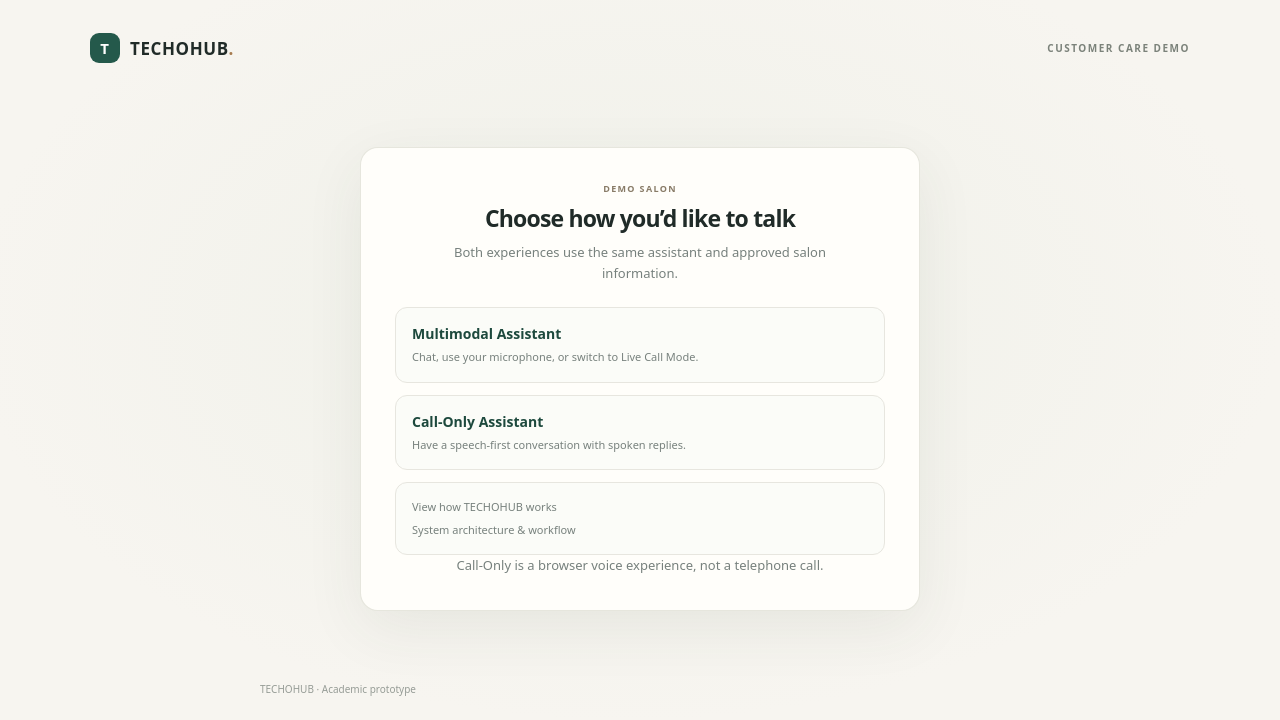
Scenario: browser text chat › switches message to live without replacing the session or transcript
This screenshot has width=1280, height=720.
Click the button "Multimodal Assistant" at (487, 334), box 395,307 -> 885,383
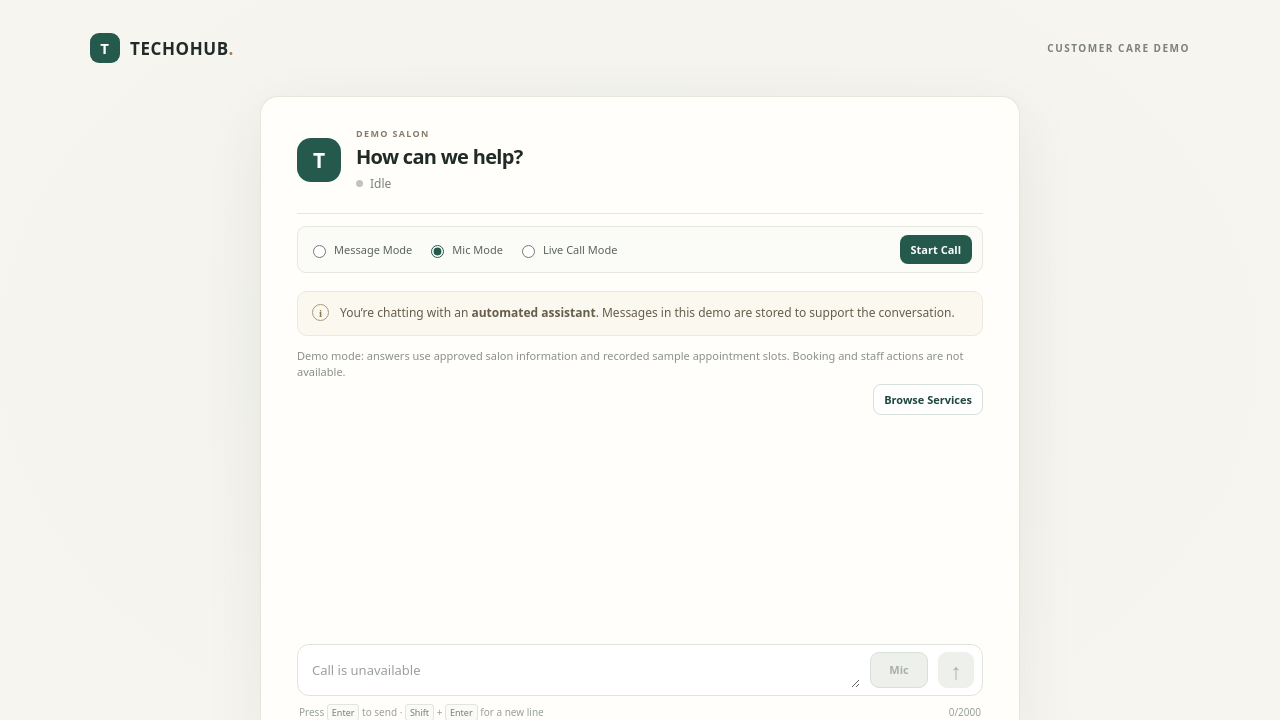
Click the radio button labelled "Message Mode" at (320, 251), box 313,244 -> 326,258
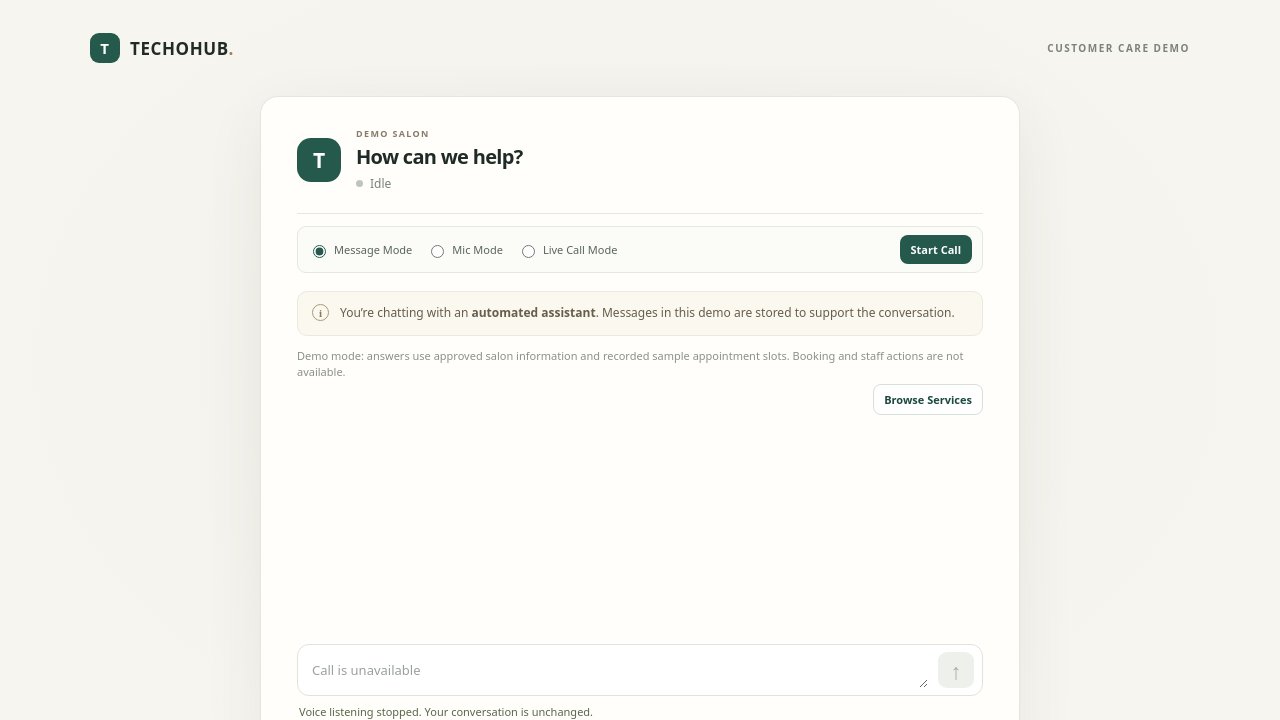
Click the button "Start Call" at (936, 250), box 900,235 -> 972,264
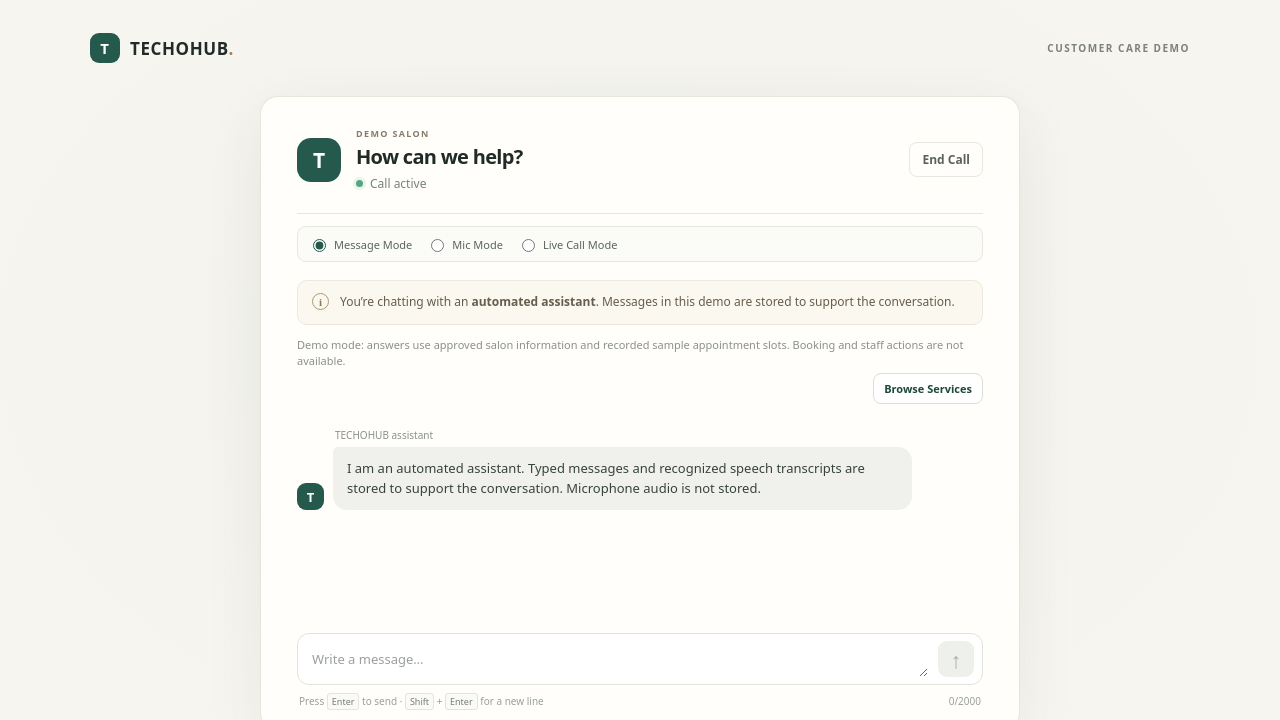
expect the button "End Call" is shown: met, box 910,142 -> 983,177
expect the text box named "Your message" is enabled: met
Type "Conversation history" into the text box named "Your message" at (620, 660), box 312,643 -> 928,677
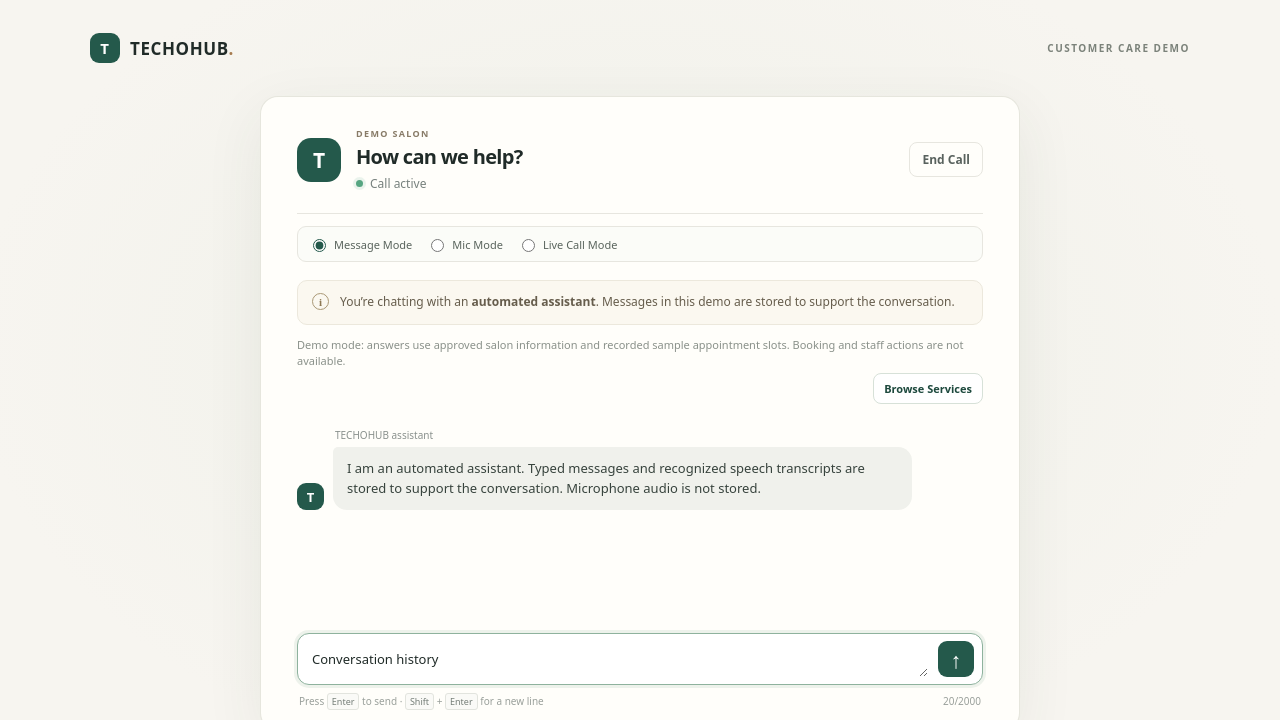
Press Enter
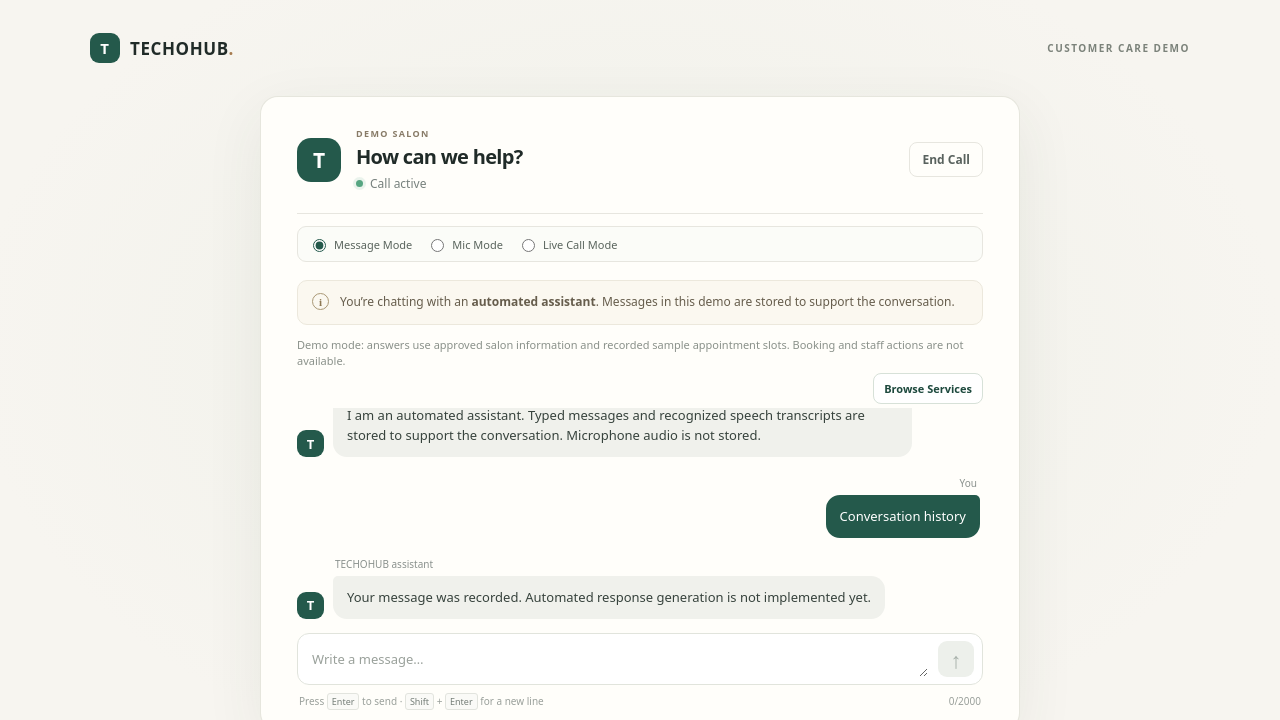
expect the text "Conversation history" is shown: met, box 826,495 -> 980,538
Click the radio button labelled "Live Call Mode" at (528, 246), box 522,239 -> 535,252
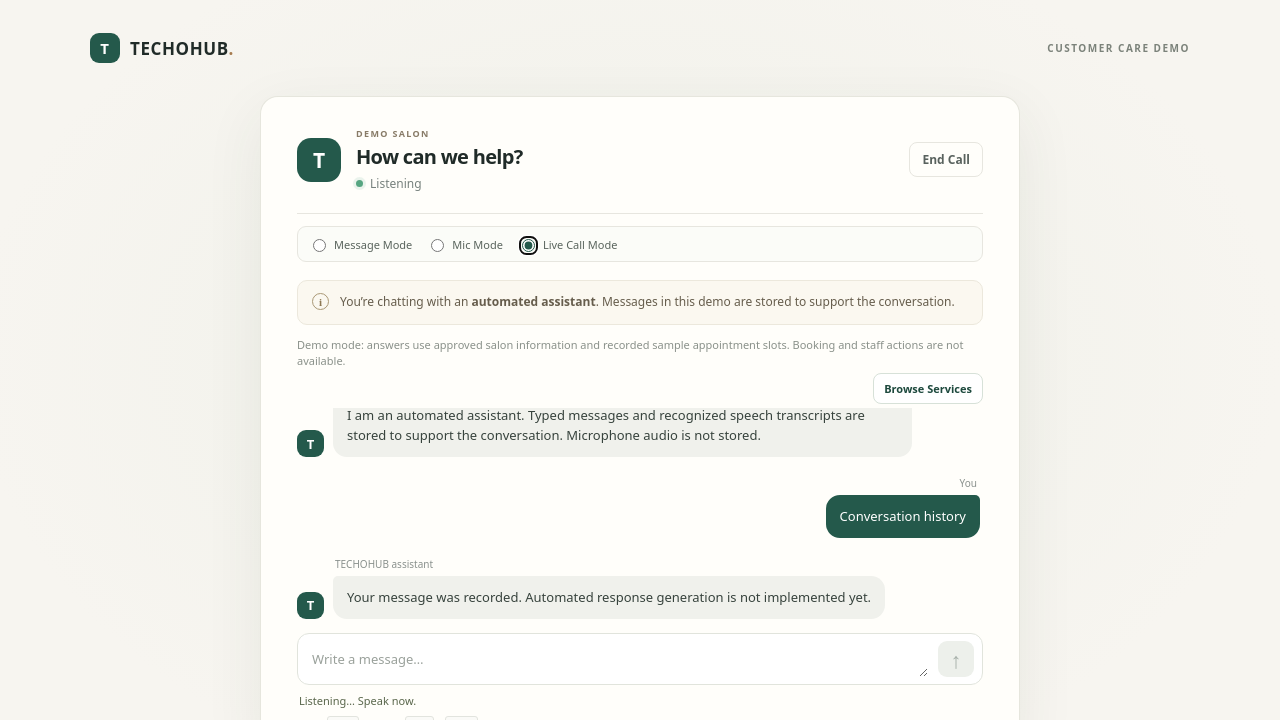
expect the radio button labelled "Live Call Mode" is checked: met, box 522,239 -> 535,252
expect the text "Conversation history" is shown: met, box 826,495 -> 980,538
expect the message shows "Listening": met, box 299,693 -> 416,708
